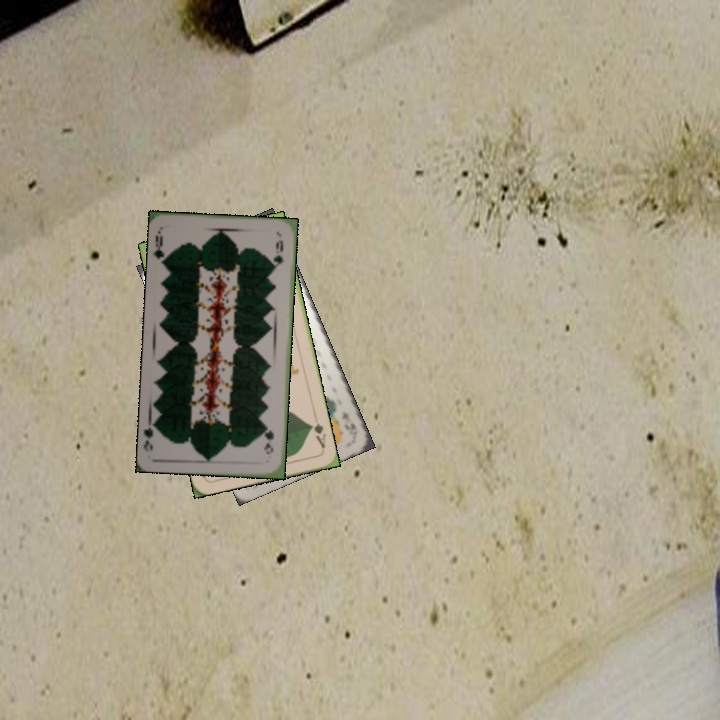EK: (337, 407, 356, 436)
G9: (150, 227, 170, 268), (261, 422, 276, 456)
GA: (306, 419, 328, 451)
